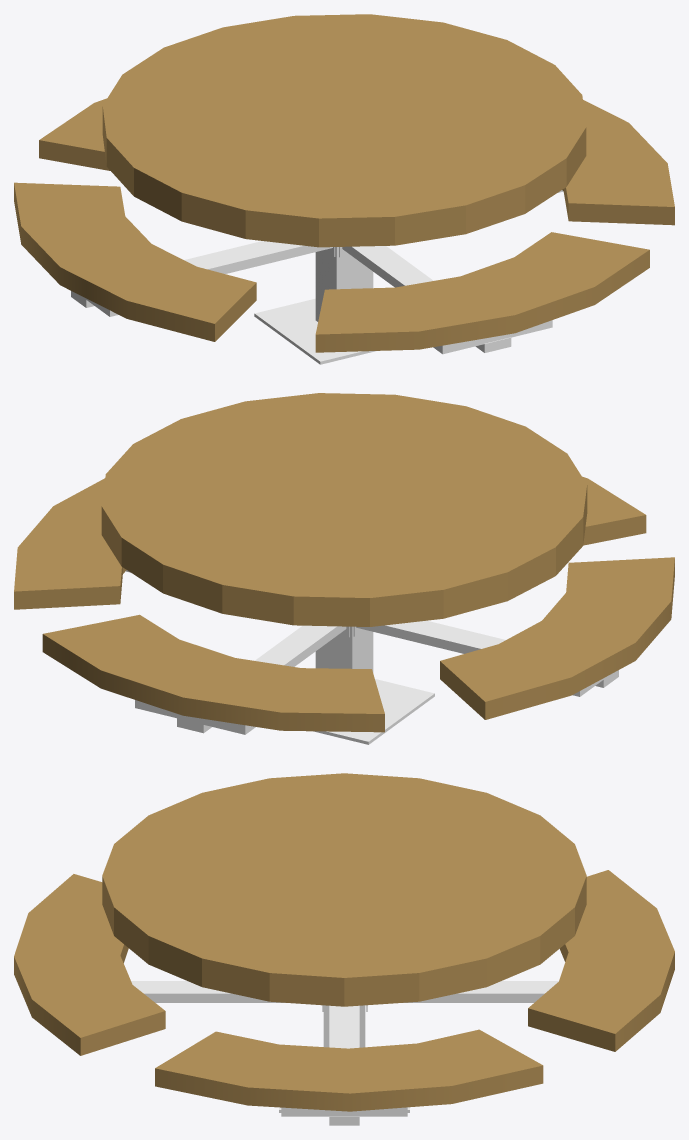
File: CafeteriaTable.fbx
The picture shows the model from 3 angles, top to bottom: view 1: azimuth 30°, elevation 25°; view 2: azimuth 150°, elevation 25°; view 3: azimuth 270°, elevation 25°; orthographic projection.
Parts seen in each view (by area): view 1: Table_Top, Seat_4, Seat_2, Seat_1, Seat_3, Perp_Stem1, pCube1, Perp_Stem2, Main_Stem, SeatBar3; view 2: Table_Top, Seat_3, Seat_2, Seat_1, Seat_4, Perp_Stem1, Perp_Stem2, pCube1, Main_Stem, SeatBar4; view 3: Table_Top, Seat_1, Seat_4, Seat_3, Perp_Stem2, Perp_Stem1, SeatBar2, Main_Stem.
Part boxes in pixels (x1,y1,x2,y2): Table_Top: (102,14,586,247); Seat_4: (315,232,649,352); Seat_2: (14,182,256,341); Seat_1: (562,100,674,225); Seat_3: (39,98,110,170); Perp_Stem1: (71,190,563,307); pCube1: (254,298,375,364); Perp_Stem2: (342,246,511,352); Main_Stem: (315,247,373,321); SeatBar3: (433,320,552,354); Table_Top: (101,393,587,626); Seat_3: (42,614,384,732); Seat_2: (440,557,674,719); Seat_1: (14,478,126,609); Seat_4: (582,476,646,545); Perp_Stem1: (126,570,618,687); Perp_Stem2: (177,625,346,733); pCube1: (313,679,434,744); Main_Stem: (315,626,373,672); SeatBar4: (135,700,255,734); Table_Top: (102,773,586,1006); Seat_1: (155,1029,543,1111); Seat_4: (14,874,165,1055); Seat_3: (528,870,674,1051); Perp_Stem2: (131,981,558,1002); Perp_Stem1: (329,1005,359,1125); SeatBar2: (281,1107,407,1116); Main_Stem: (323,1005,365,1047).
Size of the model in its own units: 7.77 by 2.72 by 7.77.
